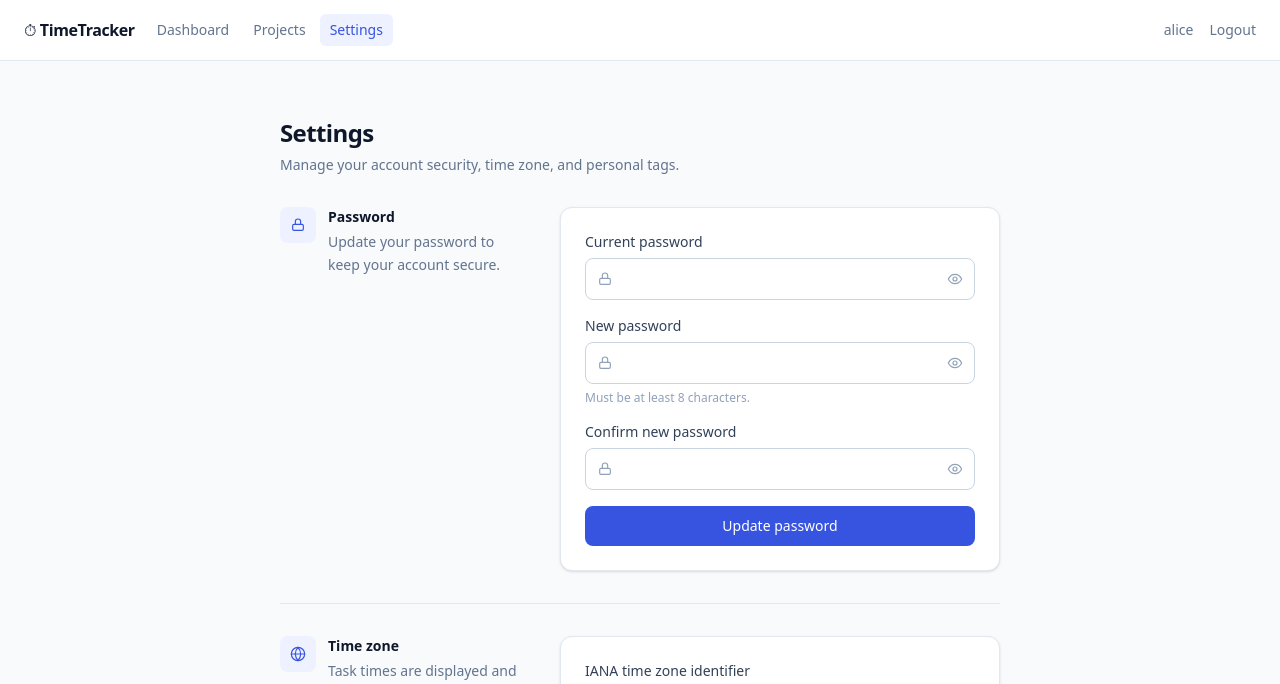
Test: SettingsPage › shows success message after successful password change
Type "oldpass1" into the password field with test id "current-password-input" at (780, 279), box x1=585 y1=258 x2=975 y2=300
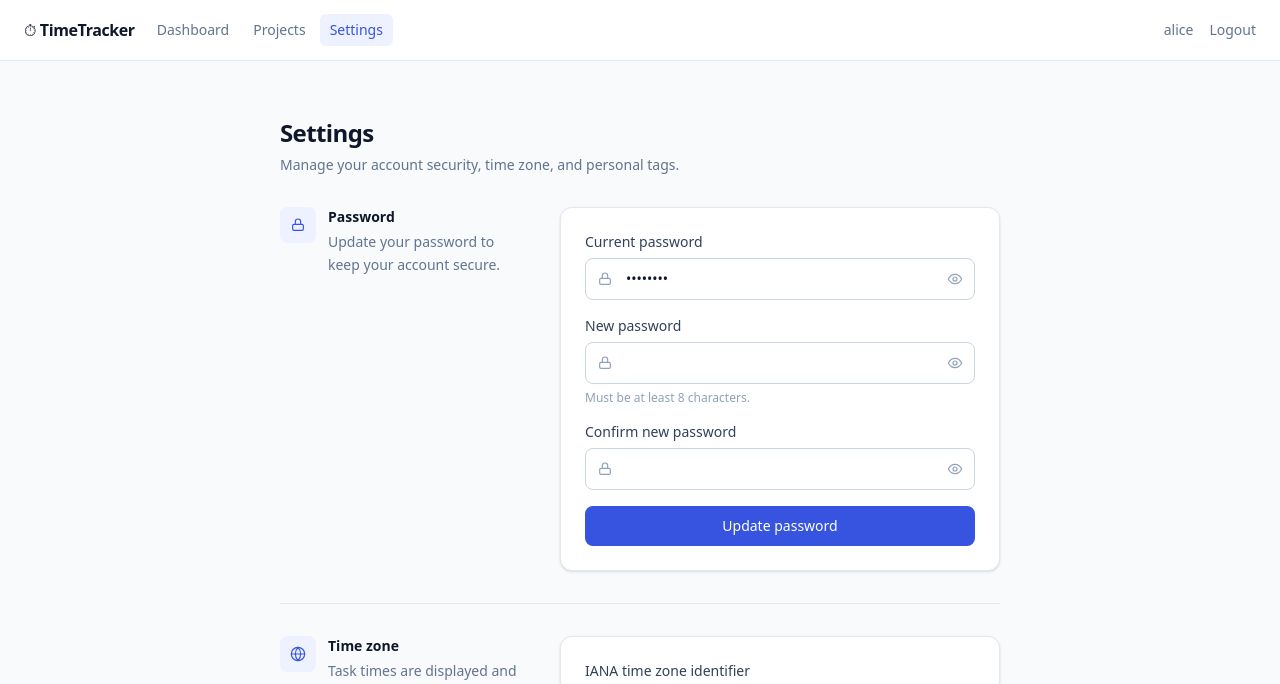
Type "newpass1" into the password field with test id "new-password-input" at (780, 363), box x1=585 y1=342 x2=975 y2=384
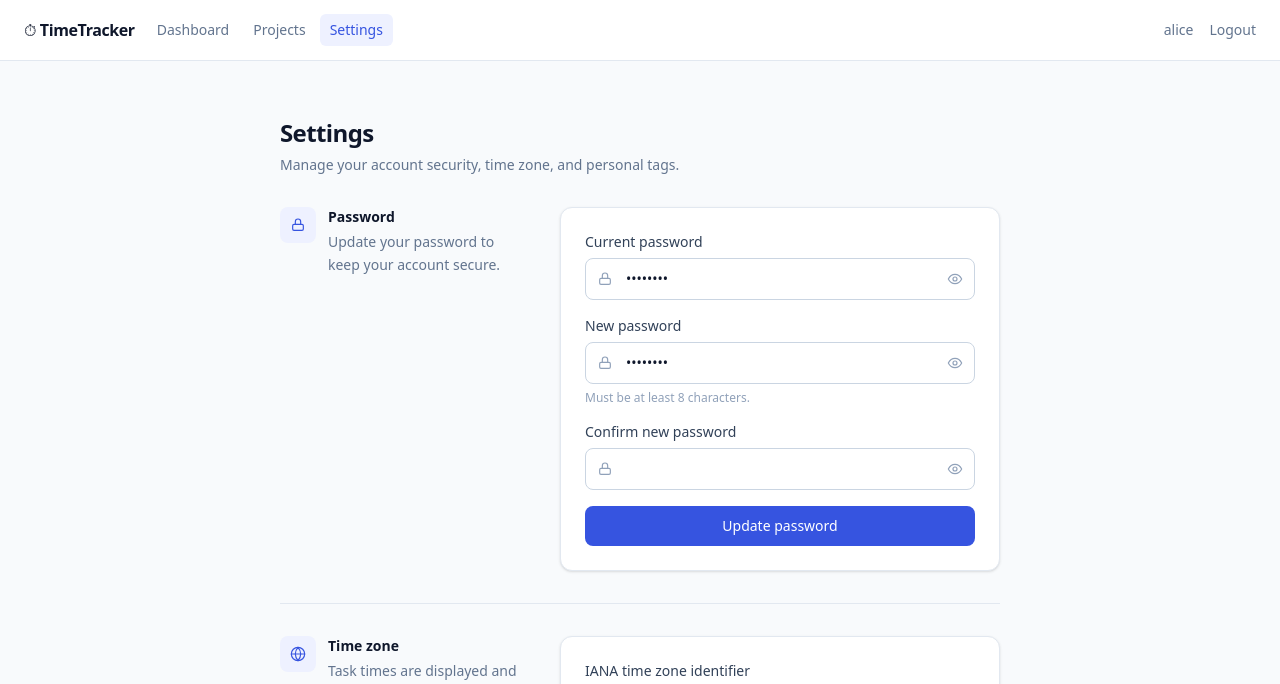
Type "newpass1" into the password field with test id "confirm-password-input" at (780, 469), box x1=585 y1=448 x2=975 y2=490
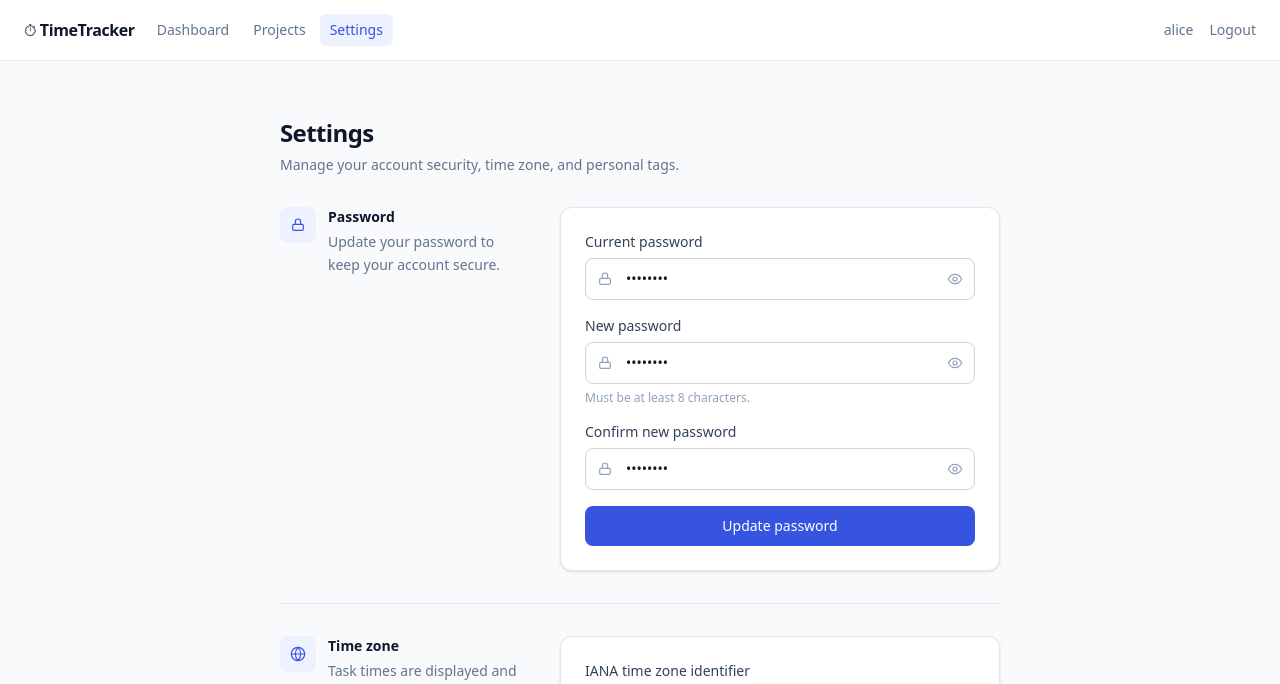
Submit the form with test id "change-password-form", box x1=585 y1=232 x2=975 y2=546
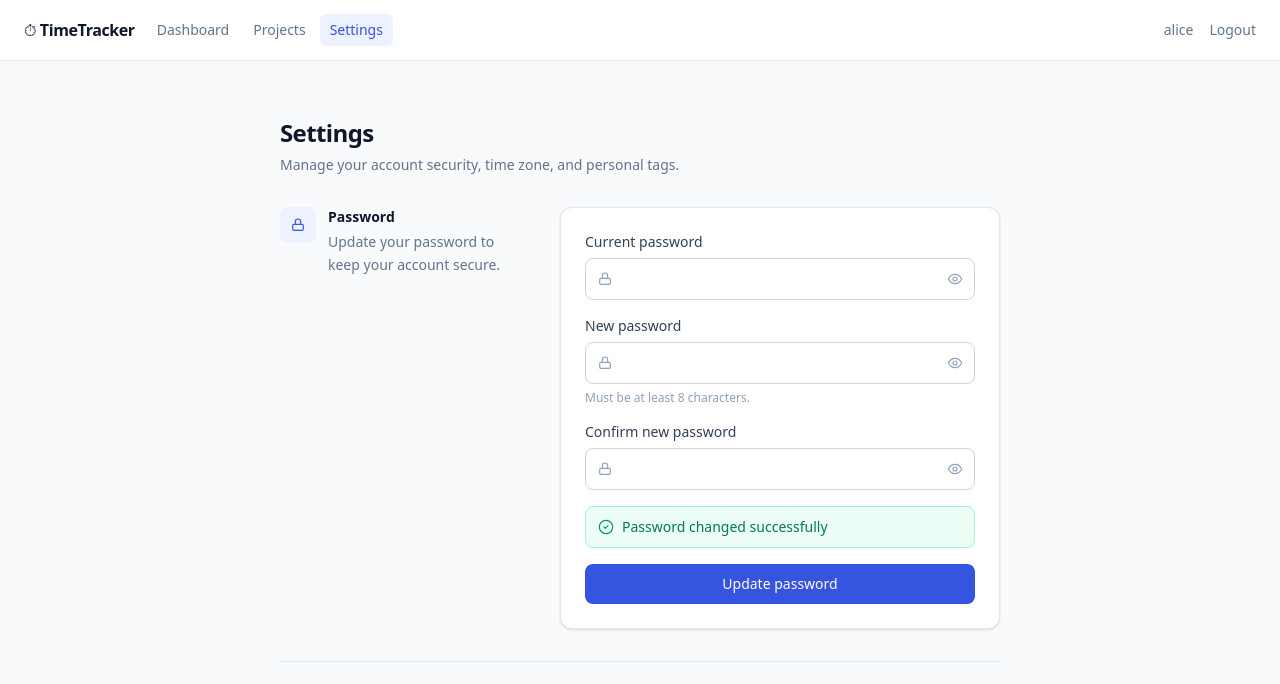
Expected: the text "Password changed successfully" is shown, x1=622 y1=517 x2=828 y2=537
Expected: the text with test id "settings-success" shows "Password changed", x1=622 y1=517 x2=828 y2=536
